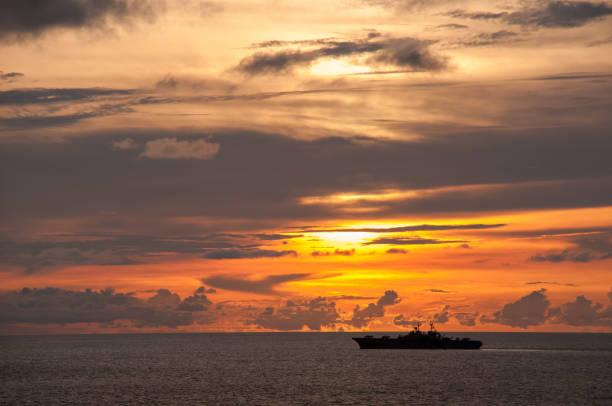MIL_Ship: (351, 319, 485, 351)
